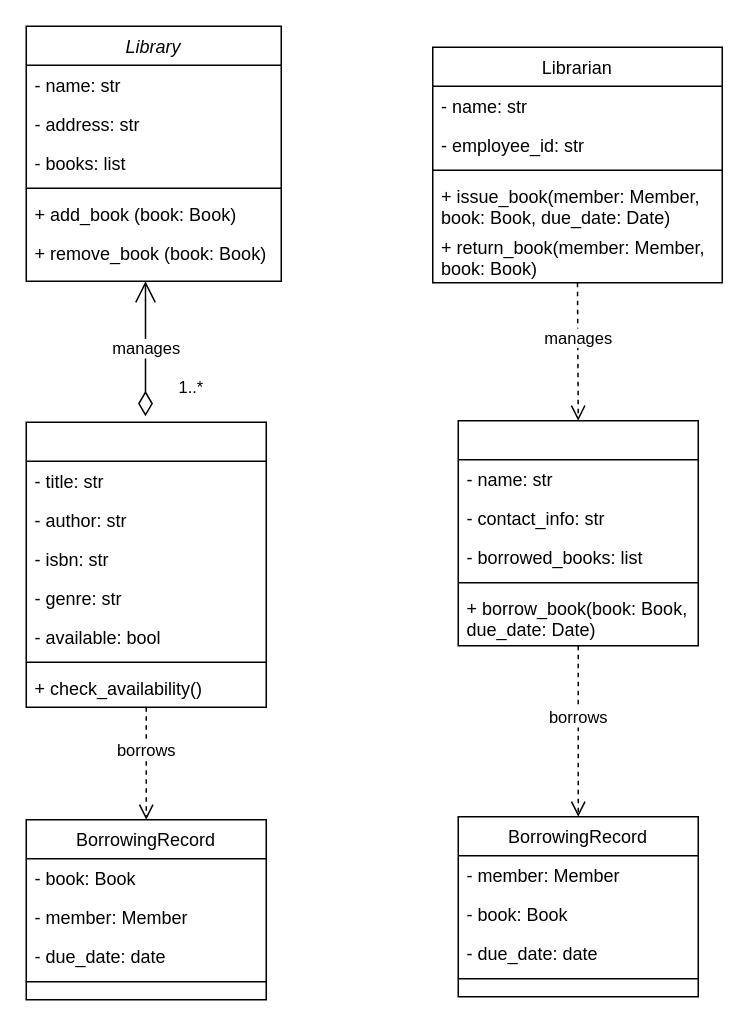
Some shapes in this 749 by 1026 pixel diagram are drawn without their labels. Here are the shapes that lost their labels. From the top down, the box of each, then its label:
(457, 419, 698, 646): Member
(25, 421, 266, 707): Book
